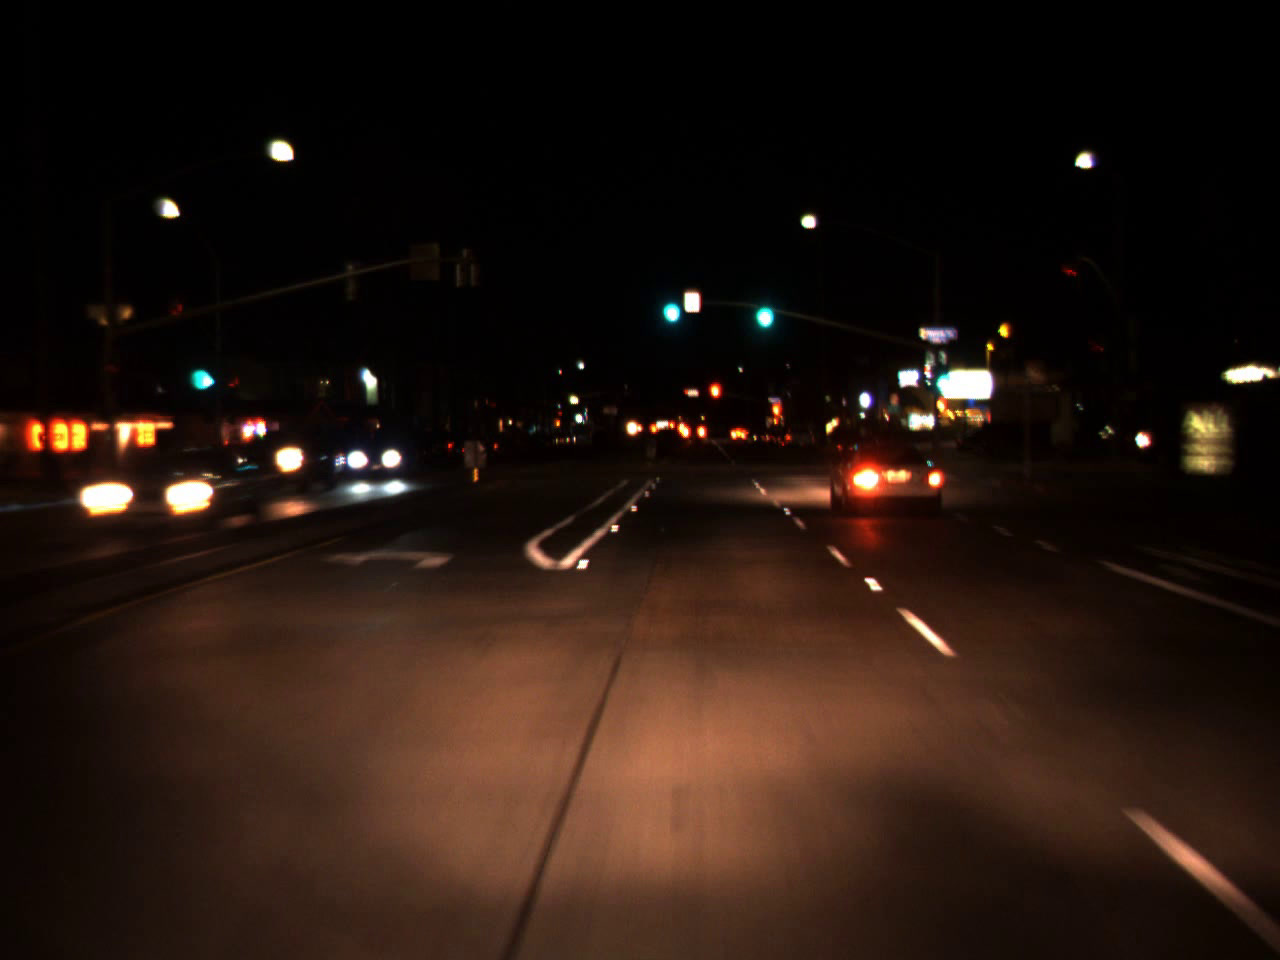go: (749, 281, 777, 335), (656, 278, 683, 329), (931, 343, 952, 403), (189, 345, 210, 396)
stop: (770, 398, 783, 441), (708, 380, 721, 417)
